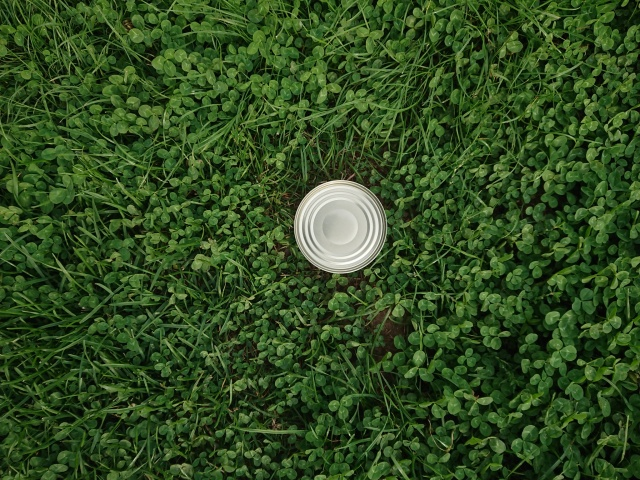Podravka Luncheon Meat 150g: (291, 178, 390, 276)
